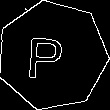P_N: (33, 30, 73, 82)
